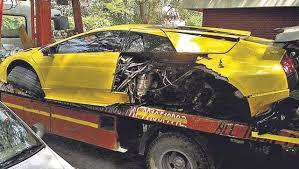Bumper: (255, 93, 299, 138)
Fender: (110, 29, 253, 119)
